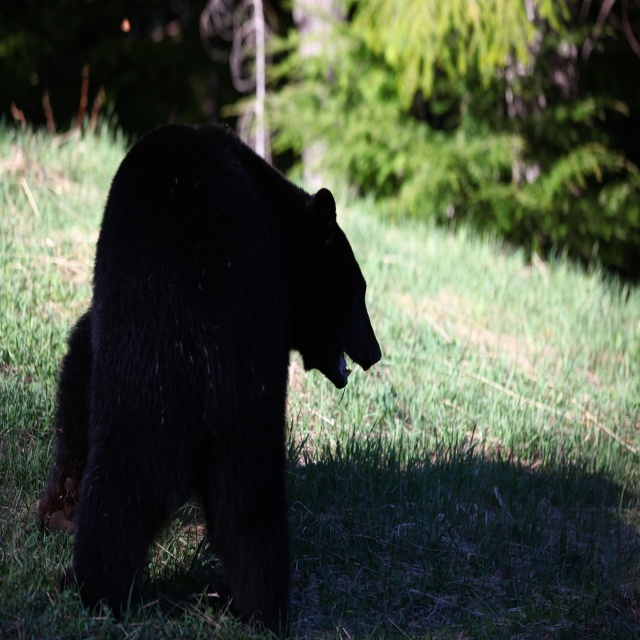Bear: (36, 124, 382, 639)
